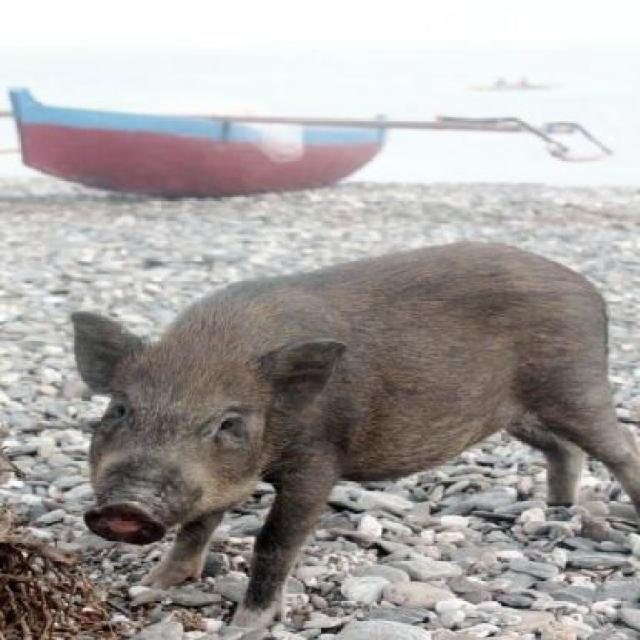Boar: (67, 238, 640, 627)
